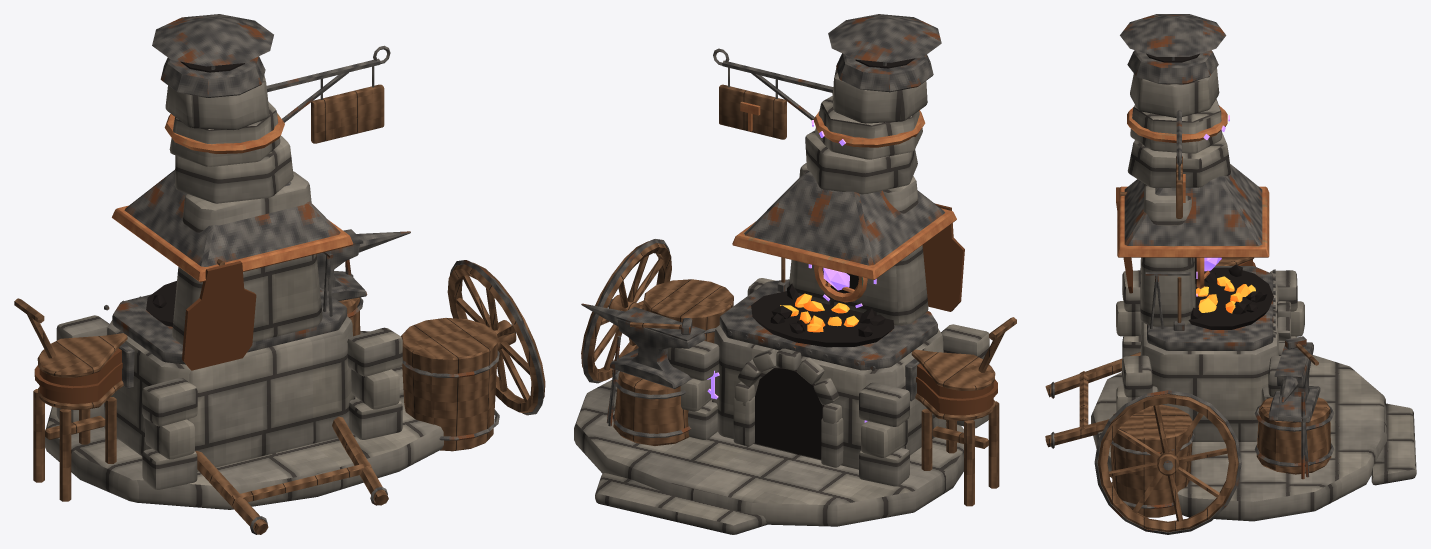
Rendered from forge.glb.
3 views of the same model, side by side, from view 1: azimuth 30°, elevation 25°; view 2: azimuth 150°, elevation 25°; view 3: azimuth 270°, elevation 25° (orthographic). The views are drawn at different scales.
Parts seen in each view (by area): view 1: WF_Forge_Stone, WF_Oiled_Wood, WF_Hammered_Iron, WF_Saddle_Leather, WF_Worn_Copper, WF_Soot_Recess; view 2: WF_Forge_Stone, WF_Hammered_Iron, WF_Oiled_Wood, WF_Soot_Recess, WF_Worn_Copper, WF_Saddle_Leather, WF_Hearth_Ember, WF_Arcane_Core; view 3: WF_Forge_Stone, WF_Hammered_Iron, WF_Oiled_Wood, WF_Worn_Copper, WF_Soot_Recess, WF_Hearth_Ember.
Part boxes in pixels (left/top/right/bottom): WF_Forge_Stone: left=45, top=75, right=443, bottom=509; WF_Oiled_Wood: left=14, top=84, right=545, bottom=534; WF_Hammered_Iron: left=104, top=14, right=544, bottom=534; WF_Saddle_Leather: left=34, top=261, right=256, bottom=403; WF_Worn_Copper: left=112, top=113, right=353, bottom=282; WF_Soot_Recess: left=146, top=61, right=244, bottom=326; WF_Forge_Stone: left=574, top=68, right=989, bottom=534; WF_Hammered_Iron: left=581, top=14, right=944, bottom=437; WF_Oiled_Wood: left=581, top=84, right=1016, bottom=506; WF_Soot_Recess: left=751, top=58, right=915, bottom=459; WF_Worn_Copper: left=732, top=101, right=956, bottom=302; WF_Saddle_Leather: left=916, top=203, right=997, bottom=415; WF_Hearth_Ember: left=780, top=293, right=858, bottom=332; WF_Arcane_Core: left=707, top=120, right=876, bottom=422; WF_Forge_Stone: left=1091, top=67, right=1416, bottom=521; WF_Hammered_Iron: left=1051, top=14, right=1334, bottom=534; WF_Oiled_Wood: left=1045, top=156, right=1331, bottom=532; WF_Worn_Copper: left=1117, top=105, right=1269, bottom=288; WF_Soot_Recess: left=1146, top=53, right=1273, bottom=329; WF_Hearth_Ember: left=1196, top=276, right=1255, bottom=313.
Size of the model in its own units: 3.24 by 3.07 by 2.64.
8 materials, 4 textured.
